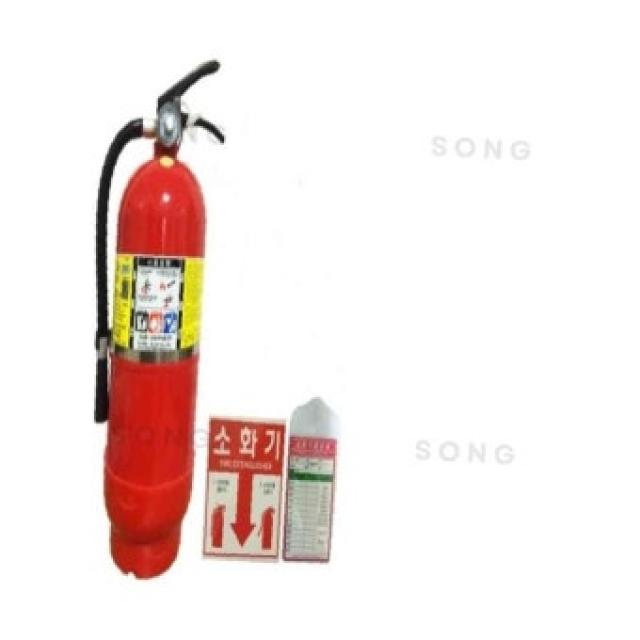pressure gauge: (156, 104, 181, 145)
